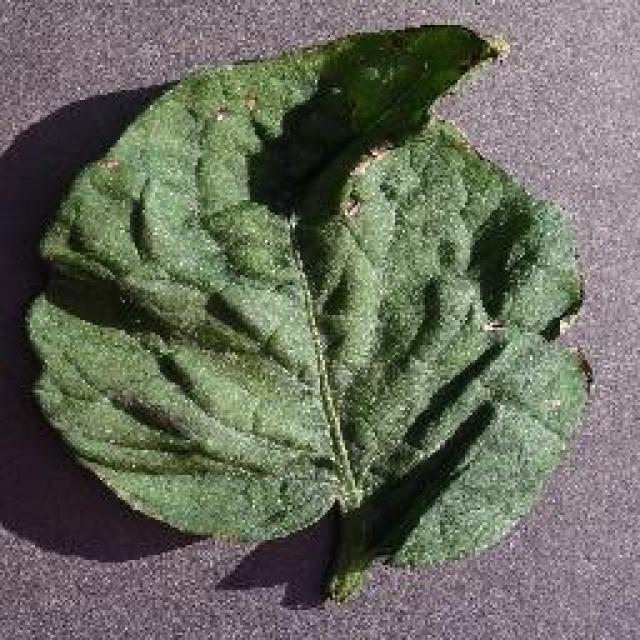Tomato Septoria spot leaf: (34, 22, 591, 560)
